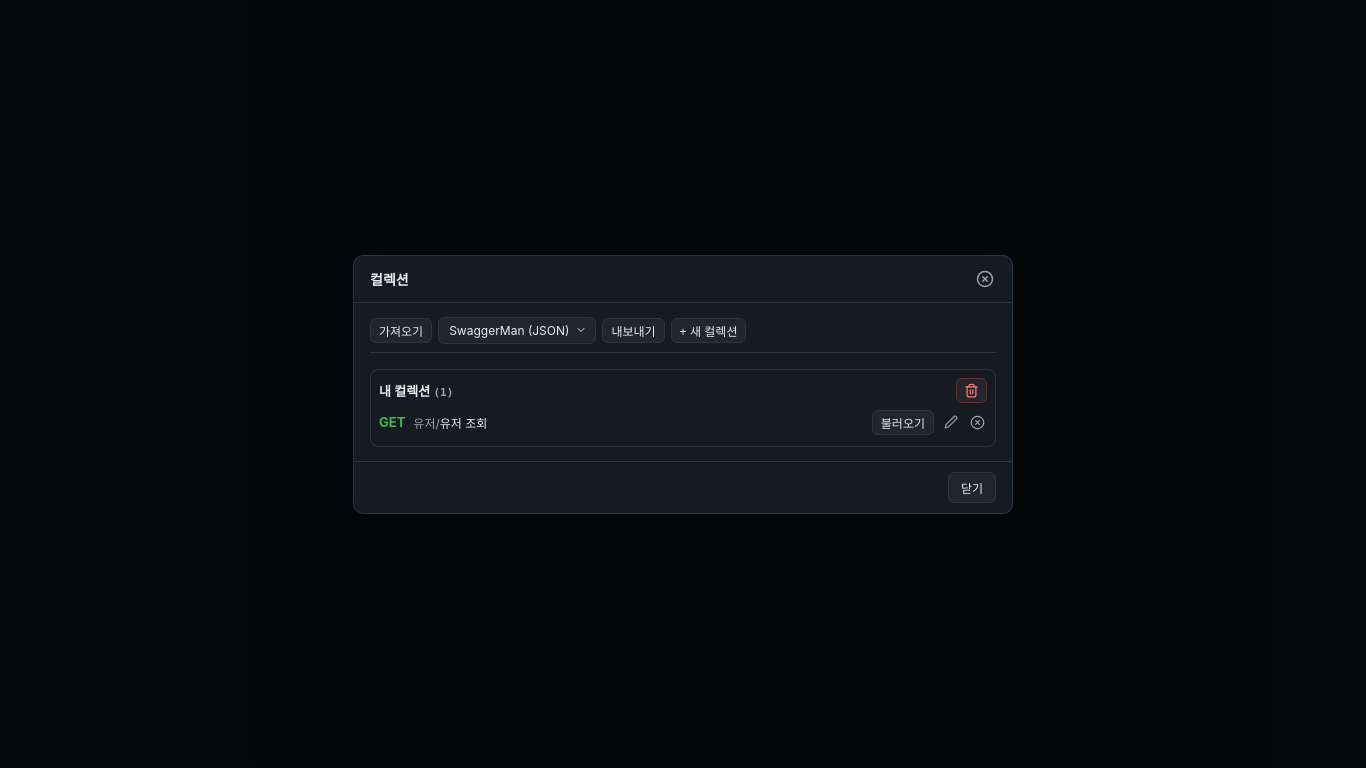
Test case: 인라인 편집 › URL을 비우면 저장 버튼이 비활성화된다
The width and height of the screenshot is (1366, 768).
Click the button titled "수정" at (951, 422), box [942,413,960,431]
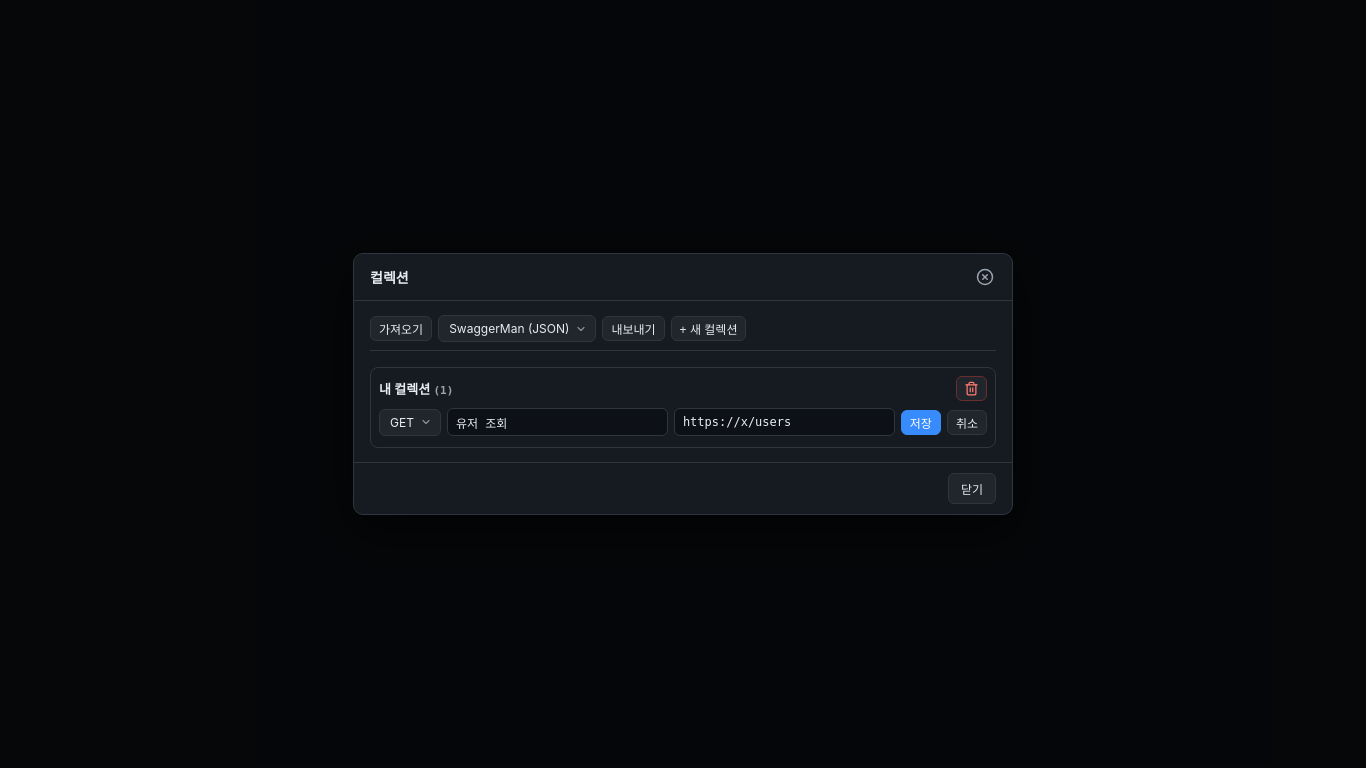
Clear the 2nd field showing "https://x/users" at (784, 422), box [674,408,895,436]
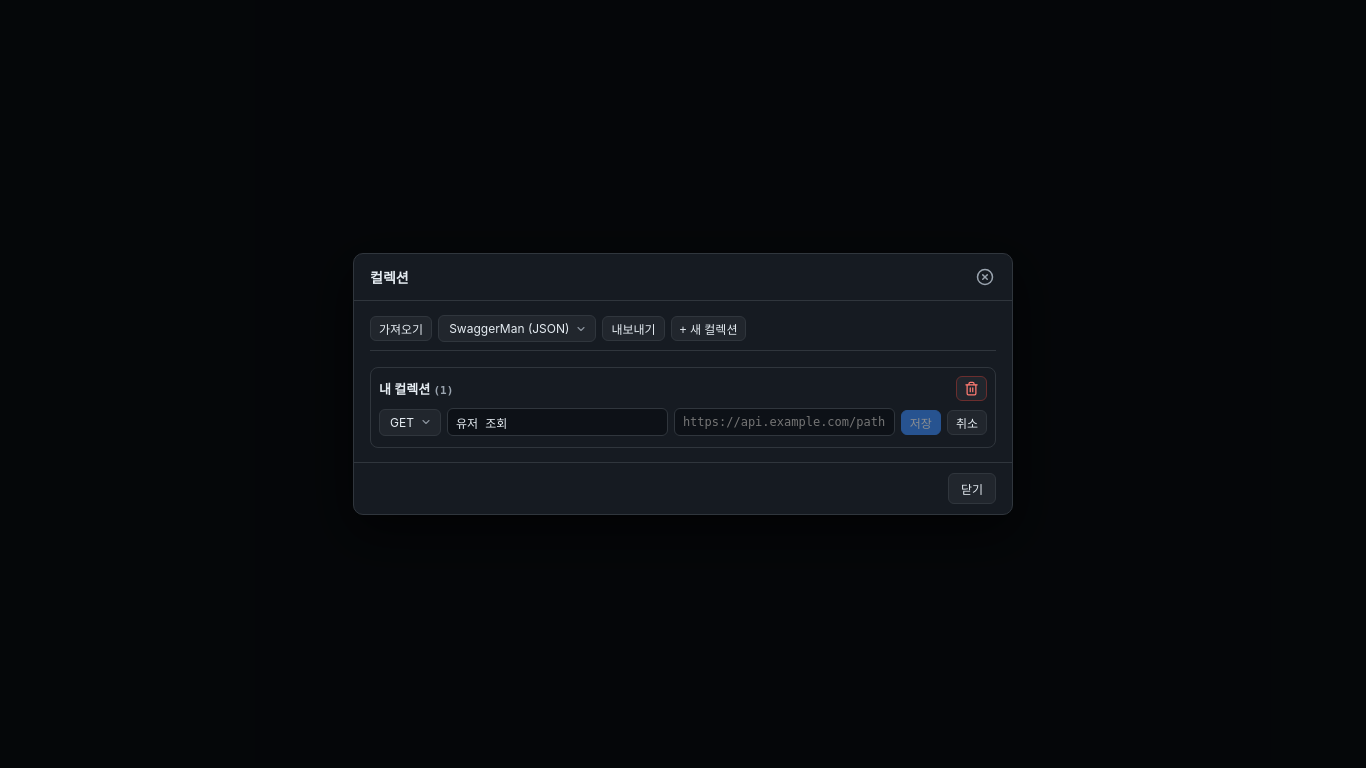
Check: the button "저장" is disabled, box [901,410,941,434]
